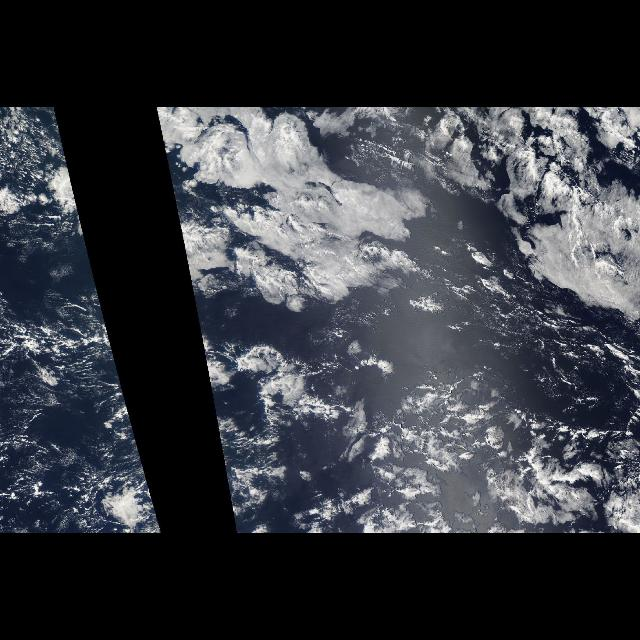Gravel: (441, 280, 639, 416)
